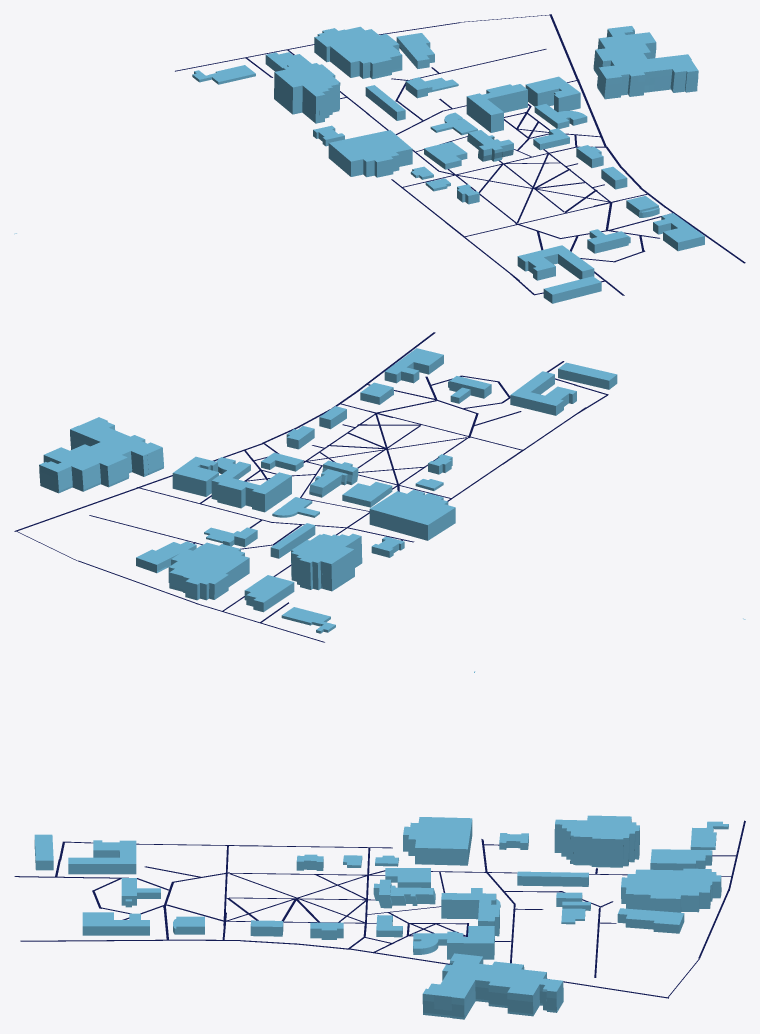
Rendered from myURImodel2.glb.
3 views of the same model, one above another, from view 1: azimuth 30°, elevation 25°; view 2: azimuth 150°, elevation 25°; view 3: azimuth 270°, elevation 25° (orthographic). The views are drawn at different scales.
Visible parts, largest first — view 1: map_7.osm_paths_footway.001, Gilbreth.001, CBLS, Chafee, Library, Kelley, Quinn.001, Gilbreth, Independence, Fogarty, Lippitt, Tyler.001 (+10 smaller); view 2: Gilbreth.001, map_7.osm_paths_footway.001, CBLS, Chafee, Library, Kelley, Quinn.001, Gilbreth, Independence, Research, Lippitt, Fogarty (+10 smaller); view 3: map_7.osm_paths_footway.001, Gilbreth.001, Chafee, CBLS, Library, Quinn.001, Kelley, Independence, Gilbreth, Tyler.001, Lippitt, Research (+9 smaller).
Boxes of the visible parts, <box> form: map_7.osm_paths_footway.001: <box>175,14,745,295</box>; Gilbreth.001: <box>593,26,698,99</box>; CBLS: <box>314,26,402,79</box>; Chafee: <box>274,62,340,123</box>; Library: <box>14,130,412,234</box>; Kelley: <box>466,84,527,132</box>; Quinn.001: <box>517,245,594,280</box>; Gilbreth: <box>525,76,580,111</box>; Independence: <box>653,213,704,251</box>; Fogarty: <box>543,276,601,303</box>; Lippitt: <box>467,130,513,161</box>; Tyler.001: <box>396,33,434,68</box>; Gilbreth.001: <box>39,417,163,493</box>; map_7.osm_paths_footway.001: <box>14,332,608,642</box>; CBLS: <box>168,542,249,600</box>; Chafee: <box>291,533,362,591</box>; Library: <box>369,491,745,619</box>; Kelley: <box>211,472,291,512</box>; Quinn.001: <box>510,371,576,415</box>; Gilbreth: <box>172,456,218,496</box>; Independence: <box>384,348,443,383</box>; Research: <box>244,575,294,612</box>; Lippitt: <box>309,460,358,497</box>; Fogarty: <box>558,362,617,389</box>; map_7.osm_paths_footway.001: <box>14,820,745,998</box>; Gilbreth.001: <box>422,953,563,1019</box>; Chafee: <box>554,815,639,867</box>; CBLS: <box>621,868,721,912</box>; Library: <box>403,671,475,865</box>; Quinn.001: <box>68,840,136,874</box>; Kelley: <box>441,893,499,936</box>; Independence: <box>82,912,149,935</box>; Gilbreth: <box>447,926,494,959</box>; Tyler.001: <box>617,908,684,933</box>; Lippitt: <box>373,879,435,908</box>; Research: <box>650,849,712,870</box>.
Size of the model in its own units: 2178 by 84.35 by 1932.
